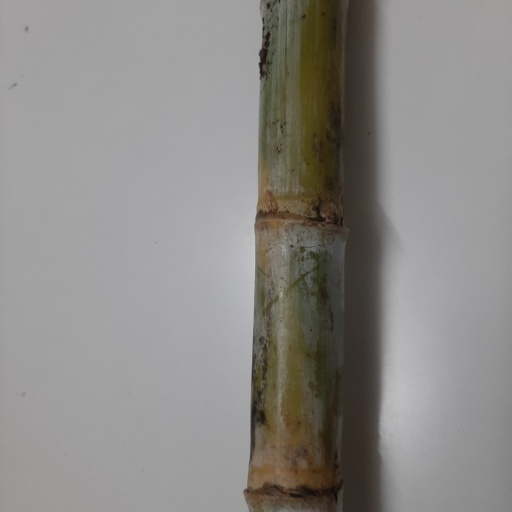Bud: (318, 197, 343, 222)
